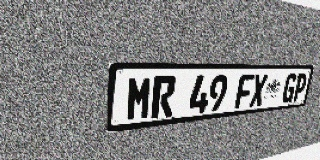4: (188, 75, 212, 114)
9: (207, 75, 229, 112)
F: (234, 74, 255, 109)
G: (281, 74, 298, 103)
M: (125, 76, 153, 122)
P: (292, 73, 308, 102)
R: (151, 76, 176, 119)
X: (249, 74, 268, 107)
